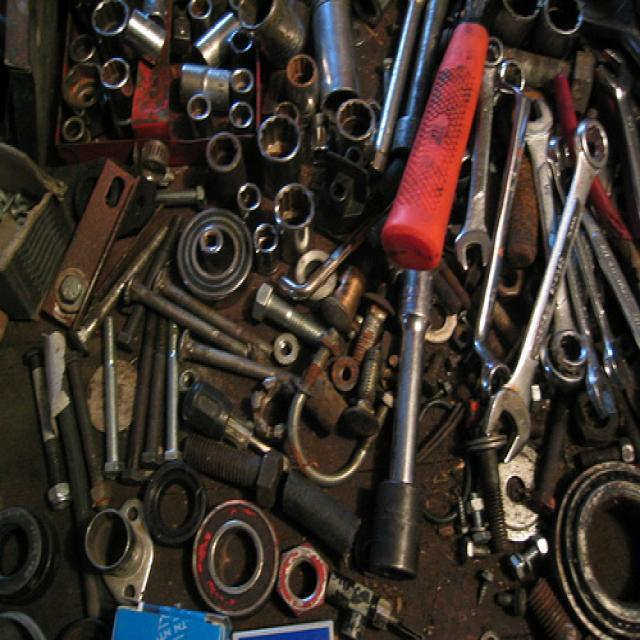wrench: (478, 114, 614, 473), (511, 90, 590, 383), (457, 36, 503, 292), (594, 40, 640, 219)
